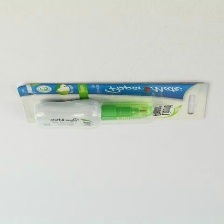book: (13, 80, 212, 125)
correction_fluid: (31, 96, 152, 129)
